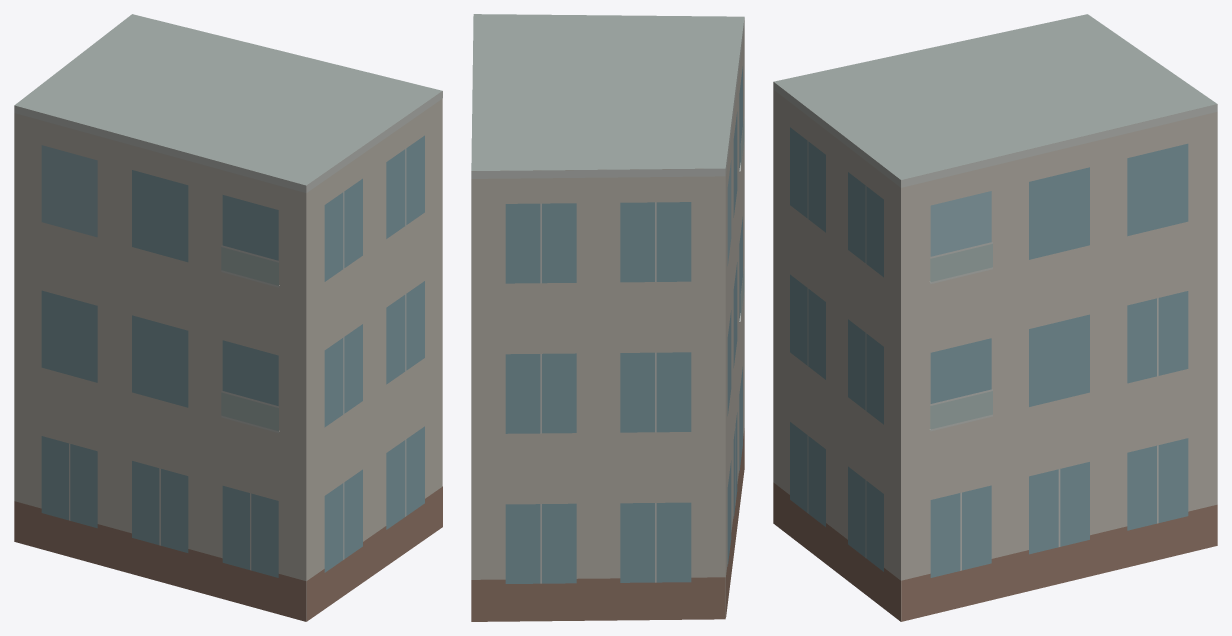
File: survey-upis-32671385.glb
The picture shows the model from 3 angles, left to right: view 1: azimuth 30°, elevation 25°; view 2: azimuth 150°, elevation 25°; view 3: azimuth 270°, elevation 25°; orthographic projection. The views are drawn at different scales.
Visible parts, largest first — view 1: survey-upis-32671385.tmp; view 2: survey-upis-32671385.tmp; view 3: survey-upis-32671385.tmp.
Boxes of the visible parts, x1=… form: survey-upis-32671385.tmp: x1=14, y1=14, x2=442, y2=621; survey-upis-32671385.tmp: x1=471, y1=14, x2=744, y2=621; survey-upis-32671385.tmp: x1=773, y1=14, x2=1217, y2=621.
Bounding box in the file's own units: 11.22 × 13.9 × 12.67.
